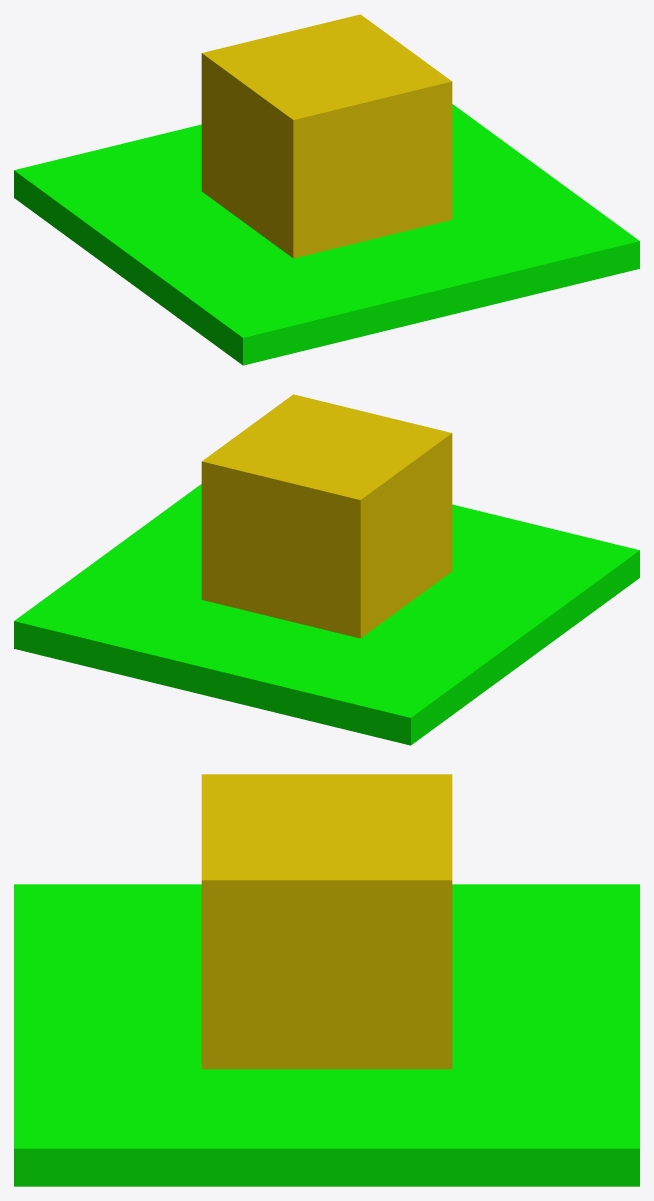
The model's file is testMap_2.glb.
3 renders of one model, top to bottom at view 1: azimuth 30°, elevation 25°; view 2: azimuth 150°, elevation 25°; view 3: azimuth 270°, elevation 25°, orthographic. The views are drawn at different scales.
Visible parts, largest first — view 1: Mesh_0.001; view 2: Mesh_0.001; view 3: Mesh_0.001.
Boxes of the visible parts, x1=… form: Mesh_0.001: x1=14, y1=14, x2=639, y2=365; Mesh_0.001: x1=14, y1=394, x2=639, y2=745; Mesh_0.001: x1=14, y1=774, x2=639, y2=1186.
Size of the model in its own units: 15 by 6 by 15.
